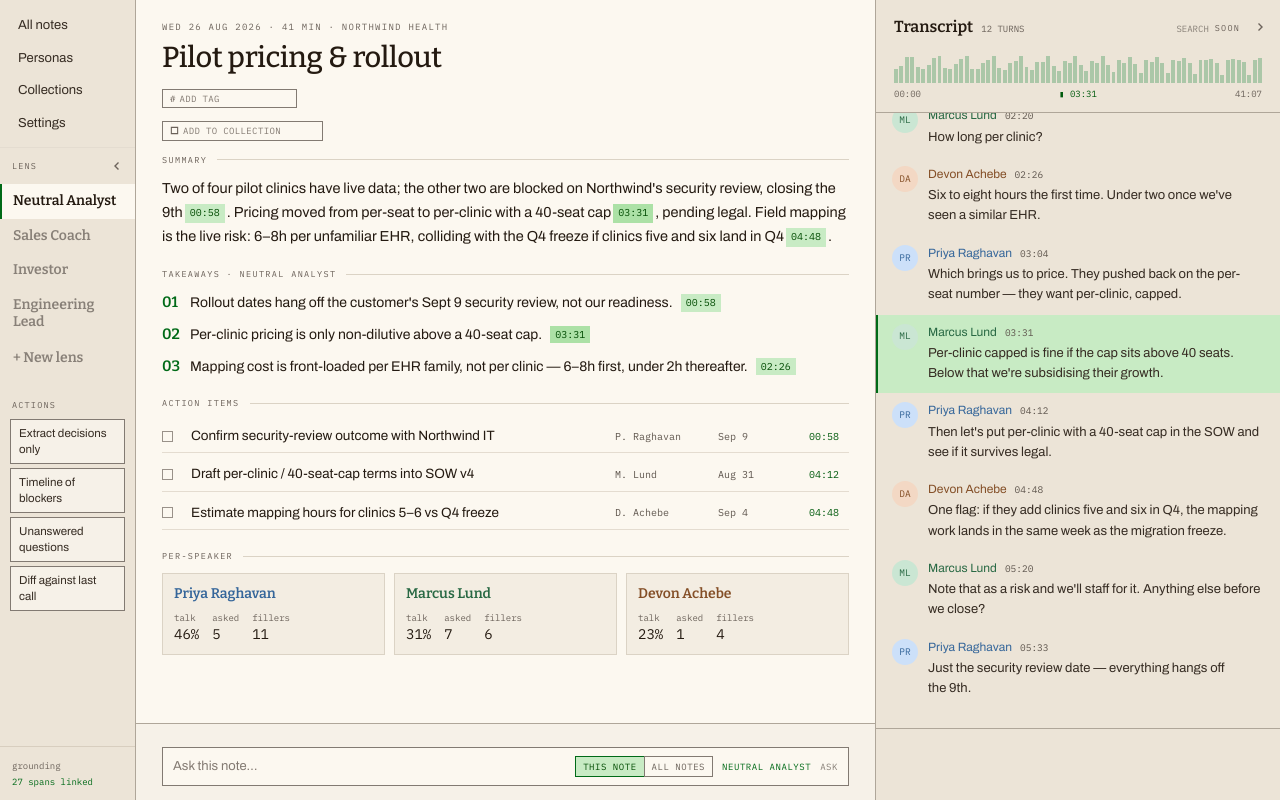
hiding and showing a pane by button › hides both, and the note stays
The width and height of the screenshot is (1280, 800).
(page scrolled)
Click the button named "Hide transcript".
click(1260, 27)  # box left=1248, top=15, right=1272, bottom=39
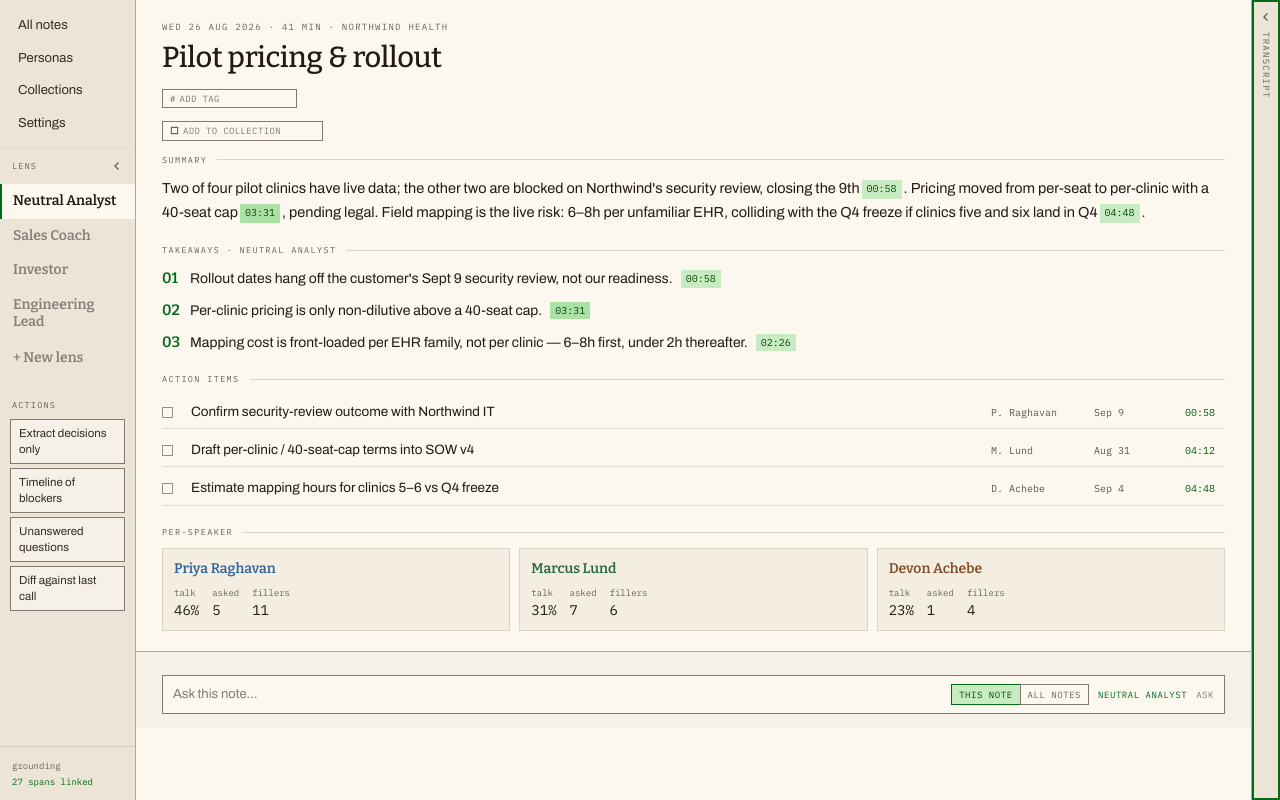
Click the button named "Hide lens rail".
click(117, 166)  # box left=105, top=154, right=129, bottom=178
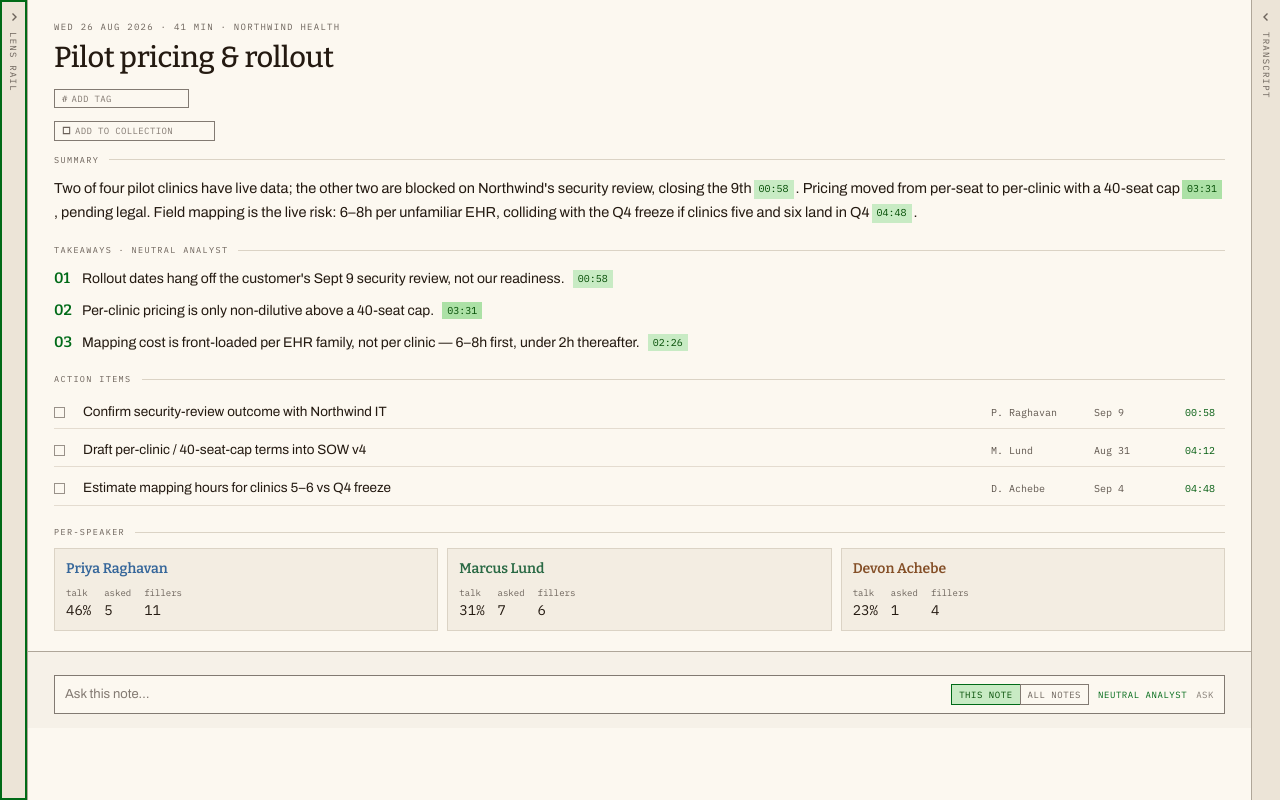
Result: the button with aria-label "Show transcript" is shown at left=1252, top=0, right=1279, bottom=799
Result: the button with aria-label "Show lens rail" is shown at left=0, top=0, right=27, bottom=799
